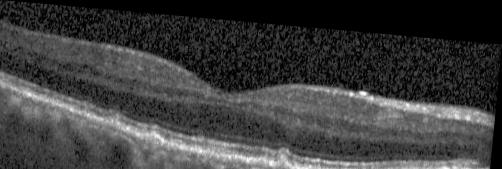retinal_drusen: (105, 115, 124, 126), (144, 132, 166, 141), (278, 151, 292, 165), (258, 154, 269, 161)
